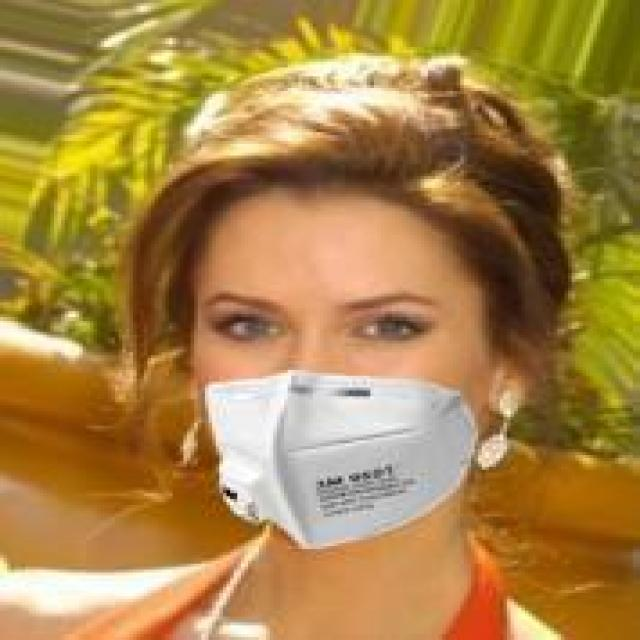mask: (108, 91, 561, 575)
